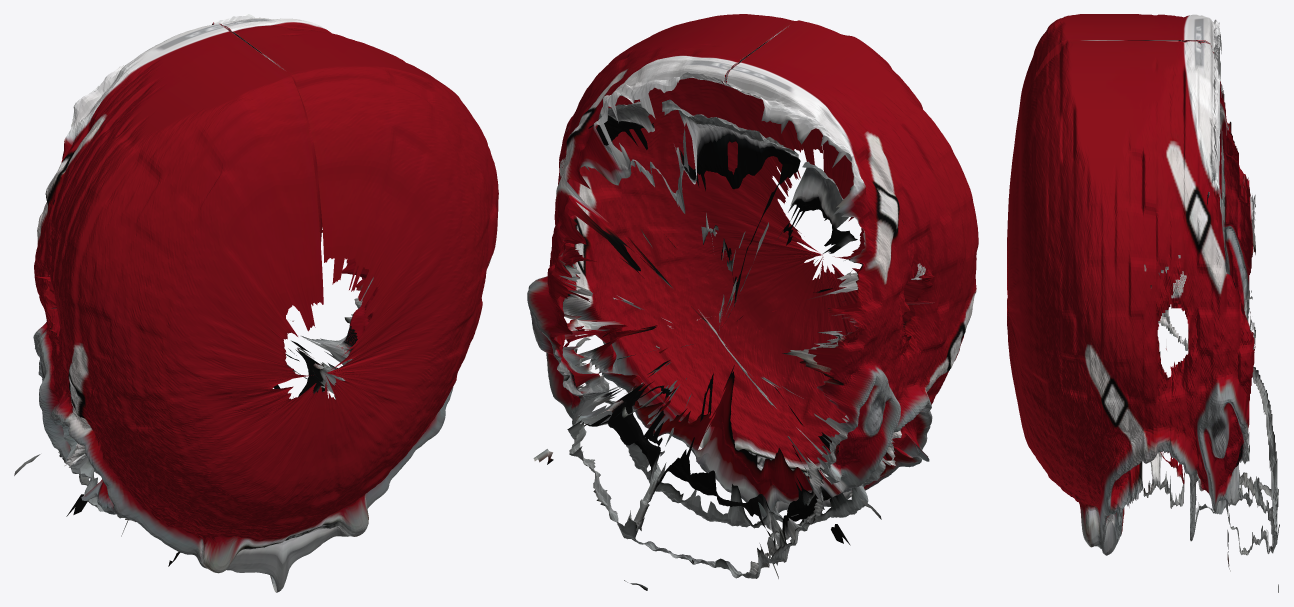
The picture shows the model from 3 angles, left to right: view 1: azimuth 30°, elevation 25°; view 2: azimuth 150°, elevation 25°; view 3: azimuth 270°, elevation 25°; orthographic projection. The views are drawn at different scales.
Visible parts, largest first — view 1: geometry_0; view 2: geometry_0; view 3: geometry_0.
Boxes of the visible parts, x1=… form: geometry_0: x1=14, y1=14, x2=498, y2=592; geometry_0: x1=527, y1=14, x2=978, y2=590; geometry_0: x1=1007, y1=14, x2=1279, y2=592.
Bounding box in the file's own units: 1.65 × 1.98 × 0.9364.
Materials: 1 (1 with a texture image).
